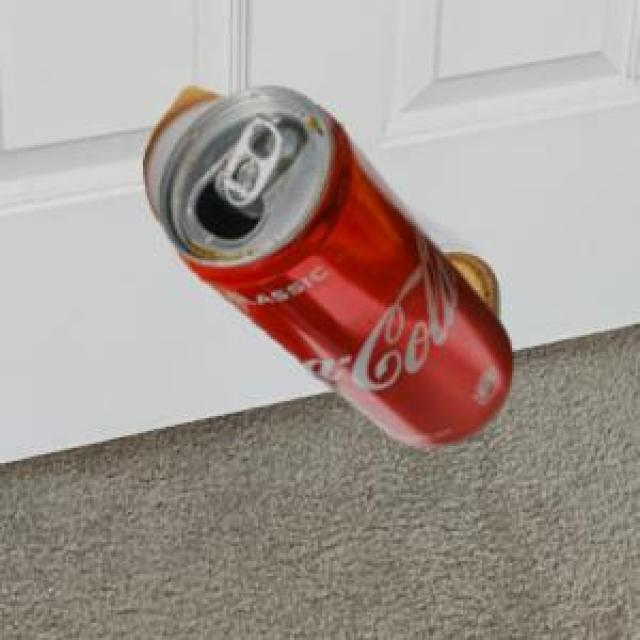logam: (157, 84, 509, 443), (140, 82, 498, 317)
